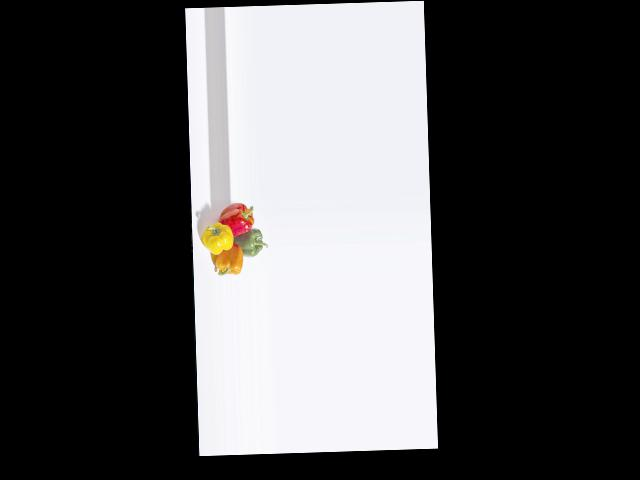bell_pepper: (218, 201, 258, 236)
